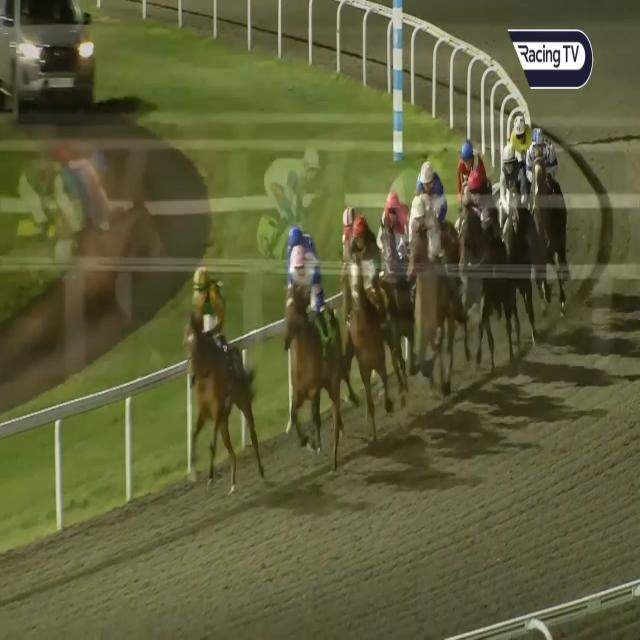horses-racing: (188, 262, 254, 486), (282, 245, 324, 464), (403, 188, 446, 362), (348, 209, 379, 450), (457, 170, 492, 363), (496, 149, 534, 280), (527, 130, 557, 275), (383, 190, 419, 308), (452, 138, 485, 199), (416, 163, 448, 214), (335, 195, 361, 251), (286, 223, 314, 271), (505, 113, 529, 158)
